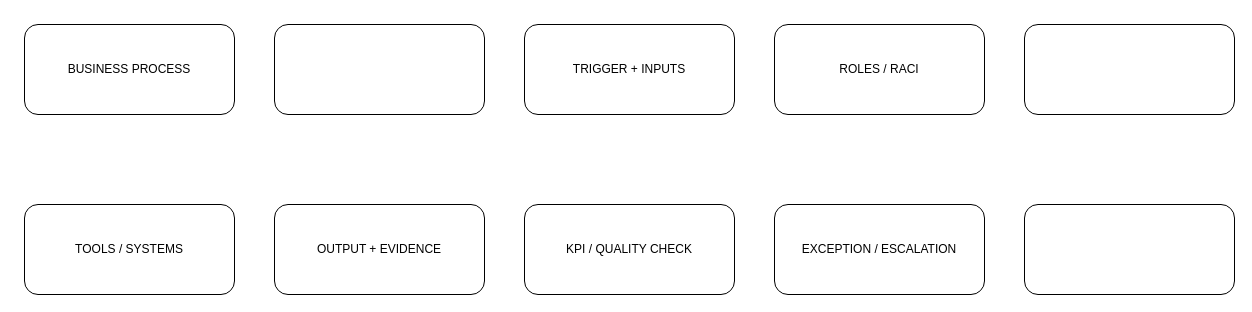
The diagram is 1252 pixels wide and 312 high, and some of its shapes have lost their labels. The centre of each missing label's shape, as x and y in pixels:
SOP / POLICY: point 379,69
STEP-BY-STEP EXECUTION: point 1129,69
VERSION / REVIEW / ARCHIVE: point 1129,249
